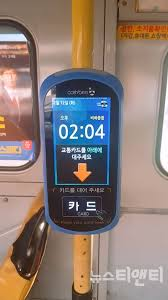terminal: (35, 67, 129, 236)
